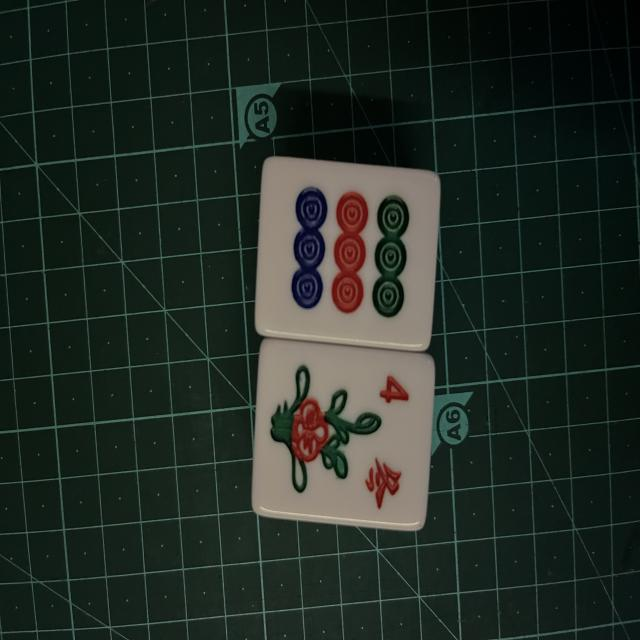ff4: (261, 344, 427, 516)
t9: (266, 161, 435, 343)
